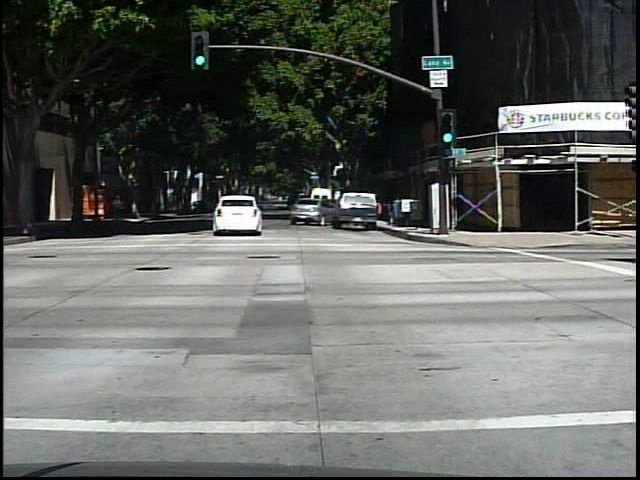person: (109, 192, 126, 222)
